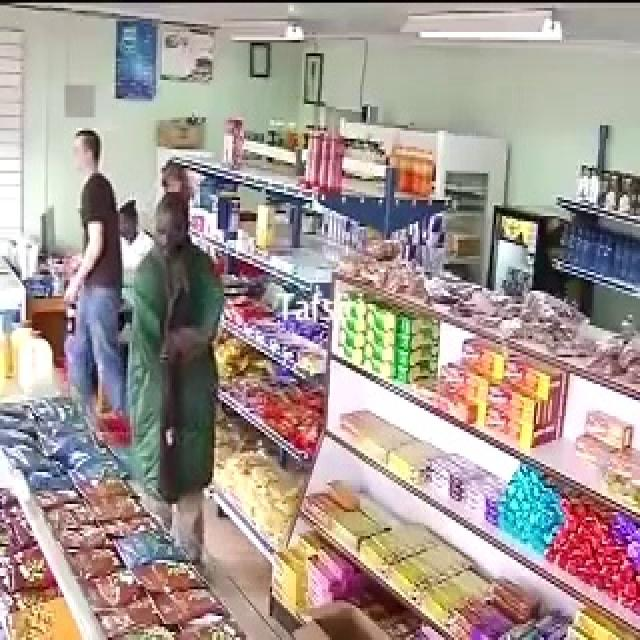normal: (99, 178, 239, 502), (44, 130, 122, 394)
